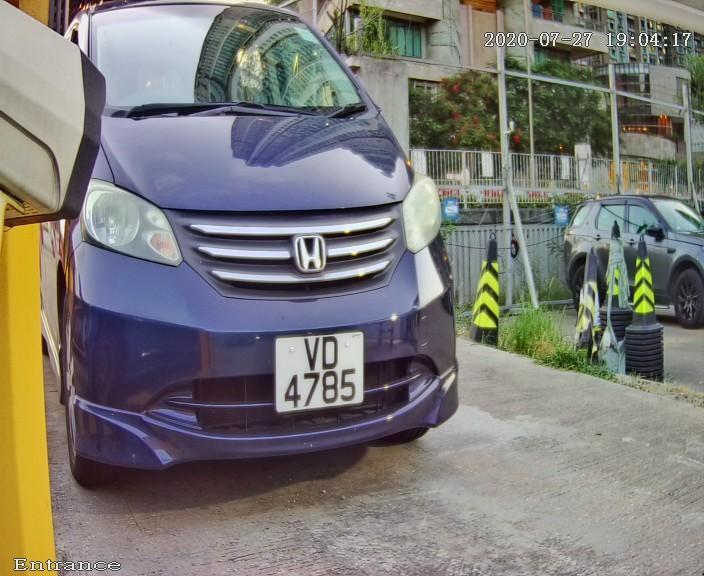privatecar: (19, 24, 510, 499)
